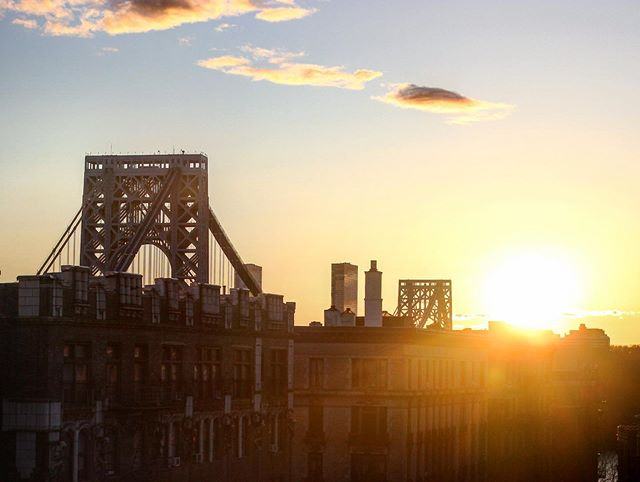building: (1, 301, 297, 482), (299, 320, 611, 482)
sky: (1, 1, 633, 311)
sun: (508, 298, 559, 340)
